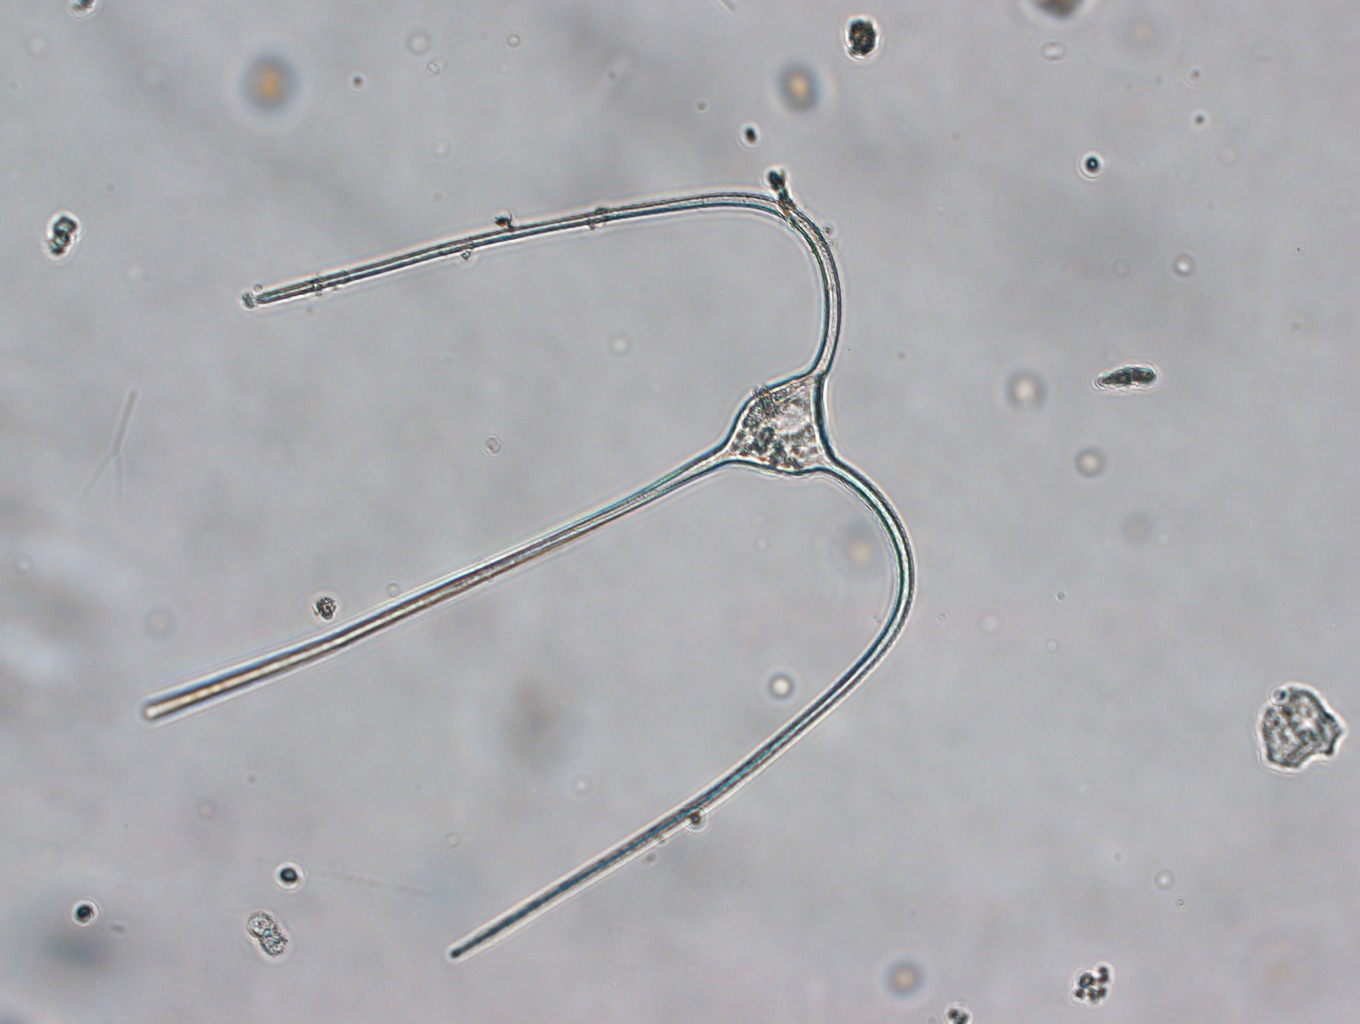ceratium trichoceros: (126, 185, 922, 962)
